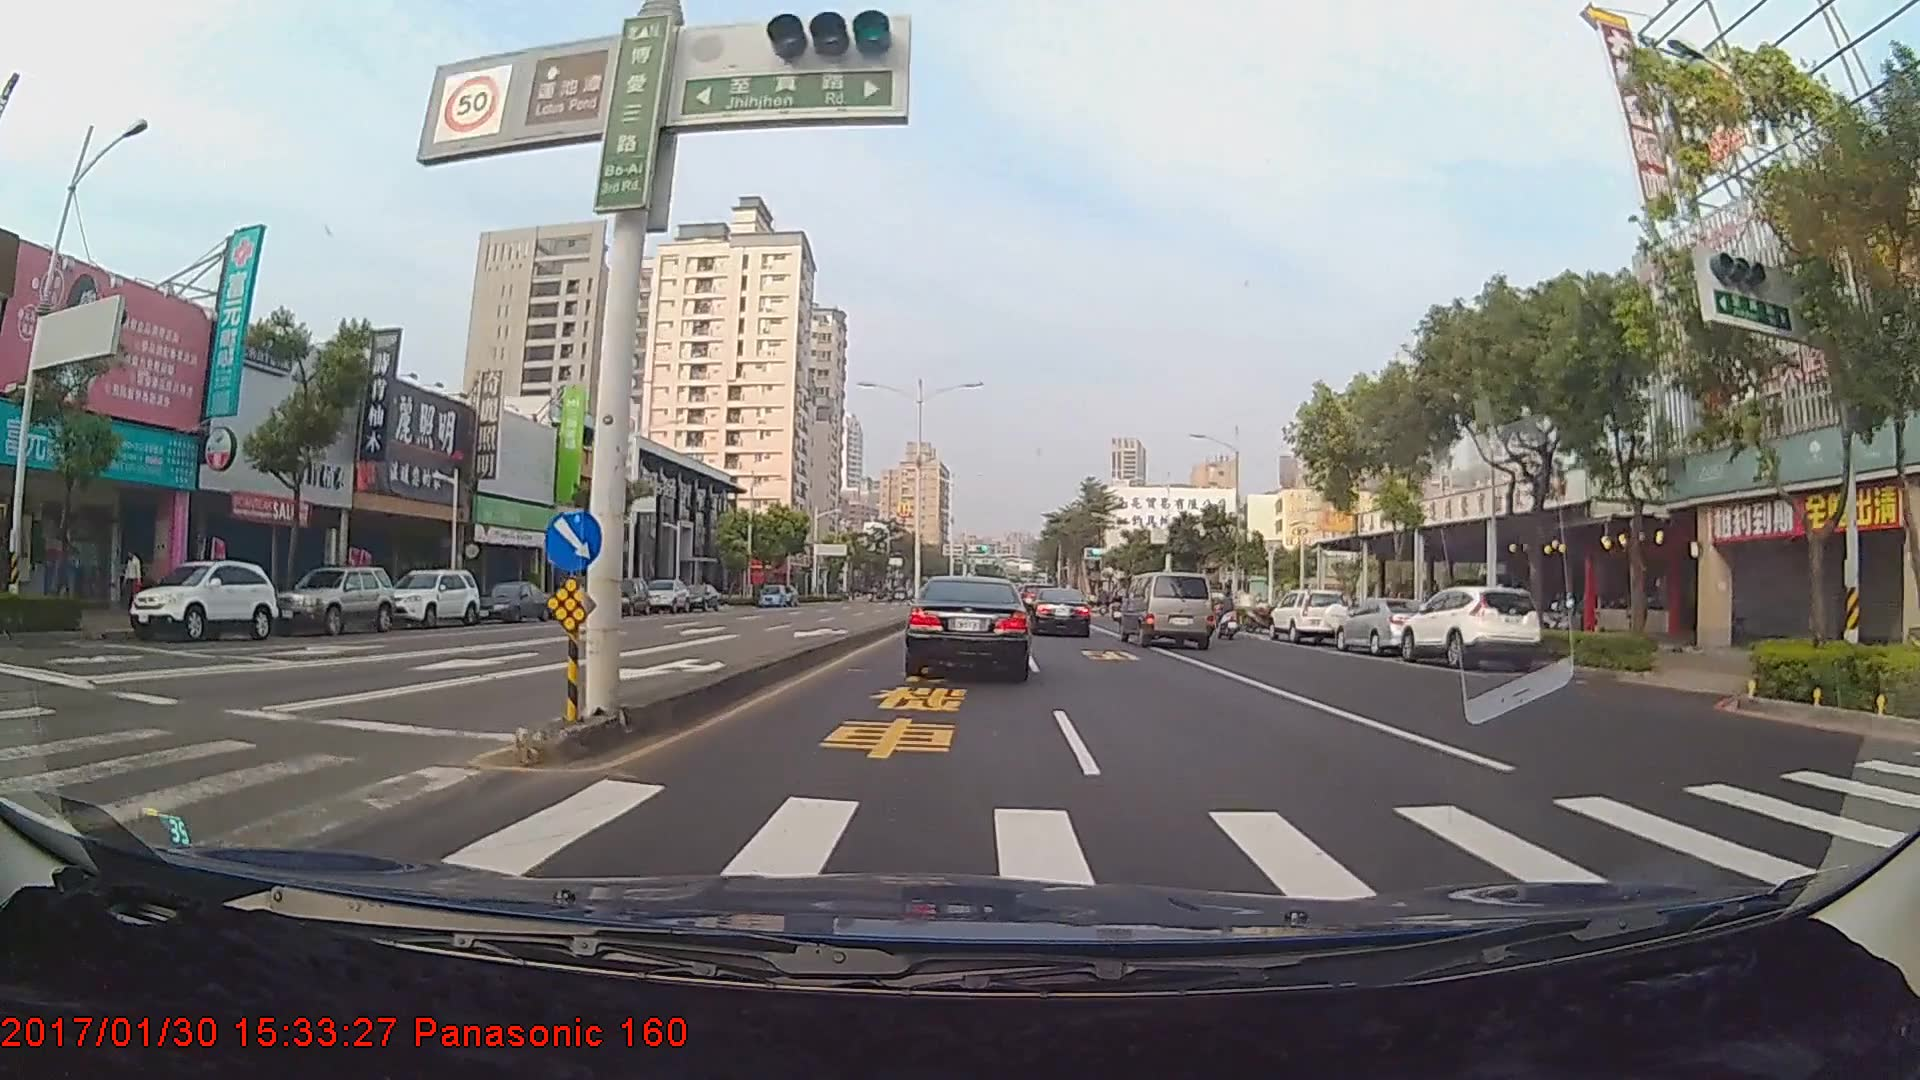pedestrian: (124, 552, 146, 618)
rider: (1211, 591, 1244, 642)
vehicle: (1395, 584, 1544, 671), (908, 573, 1029, 679), (126, 562, 276, 642), (275, 565, 394, 637), (1118, 571, 1214, 649), (1333, 597, 1437, 658), (381, 569, 481, 630), (1271, 590, 1349, 644), (1022, 586, 1091, 639), (473, 581, 552, 624), (640, 579, 691, 616), (679, 584, 721, 613), (757, 583, 787, 608)
